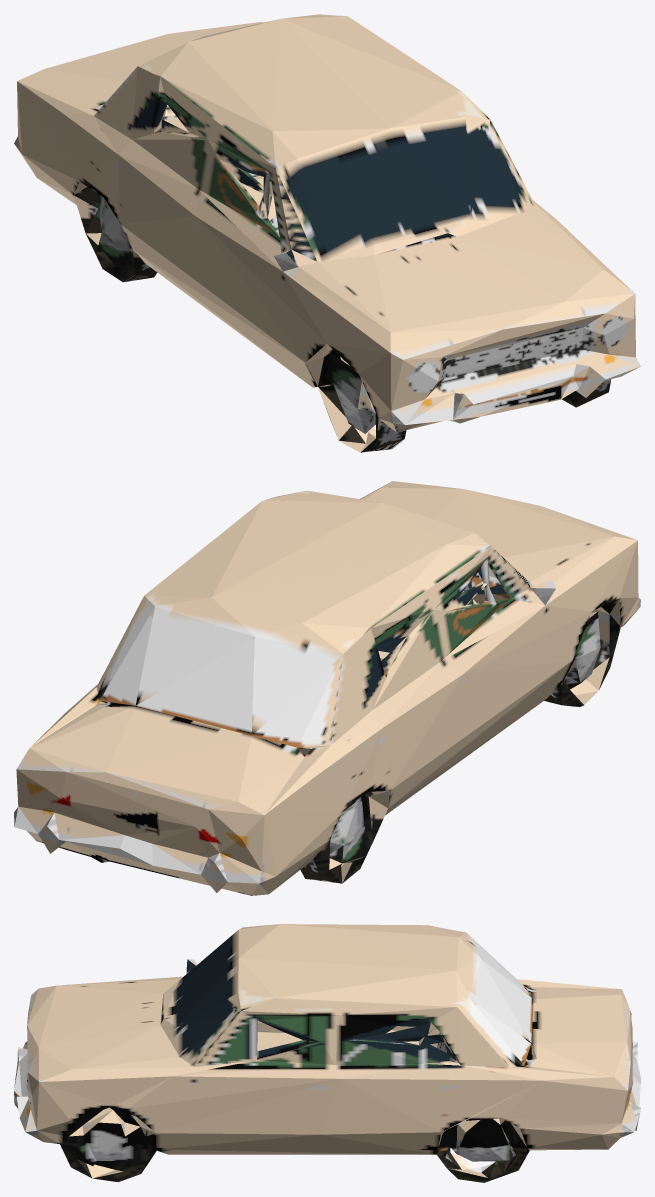
3 renders of one model, top to bottom at view 1: azimuth 30°, elevation 25°; view 2: azimuth 150°, elevation 25°; view 3: azimuth 270°, elevation 25°, orthographic. The views are drawn at different scales.
Size of the model in its own units: 1.63 by 1.33 by 4.17.
Materials: 1 (1 with a texture image).
